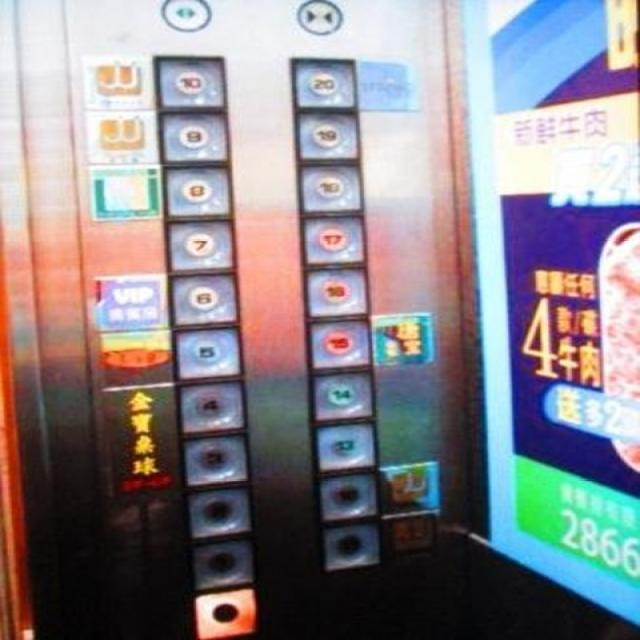10: (149, 51, 228, 108)
13: (310, 421, 378, 472)
14: (305, 369, 376, 421)
15: (301, 317, 372, 370)
16: (299, 265, 369, 318)
17: (296, 213, 367, 265)
18: (293, 161, 364, 214)
19: (289, 104, 360, 157)
20: (287, 55, 357, 107)
3: (174, 433, 250, 486)
4: (172, 379, 248, 431)
5: (166, 325, 242, 378)
6: (162, 271, 238, 324)
7: (158, 217, 234, 270)
8: (158, 163, 234, 217)
9: (153, 108, 230, 162)
blur: (181, 487, 252, 537), (184, 539, 255, 588), (191, 588, 256, 638), (313, 472, 379, 521), (313, 522, 379, 571)
close: (289, 0, 345, 35)
open: (154, 0, 213, 32)
